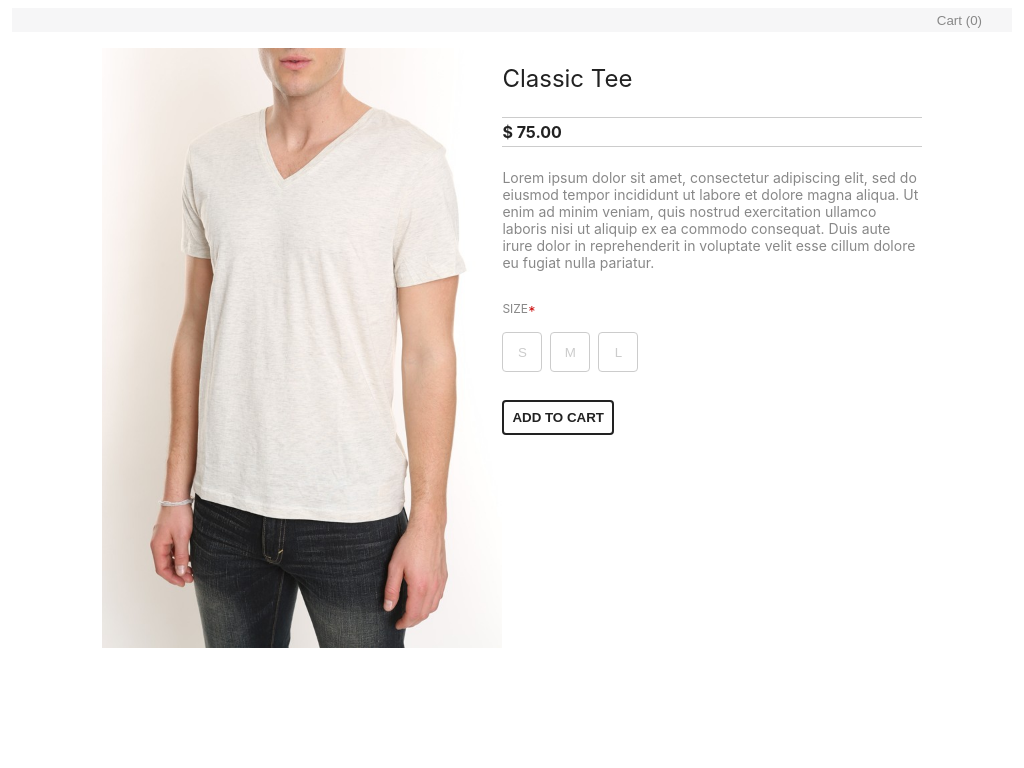
Test: Main page E2E tests › Must render product with sizes
This screenshot has width=1024, height=768.
Expected: the element with test id "header" is shown, [12, 8, 1012, 32]
Expected: the element with test id "cart-menu" is shown, [931, 12, 988, 29]
Click the button "S": (522, 352) [502, 332, 542, 372]
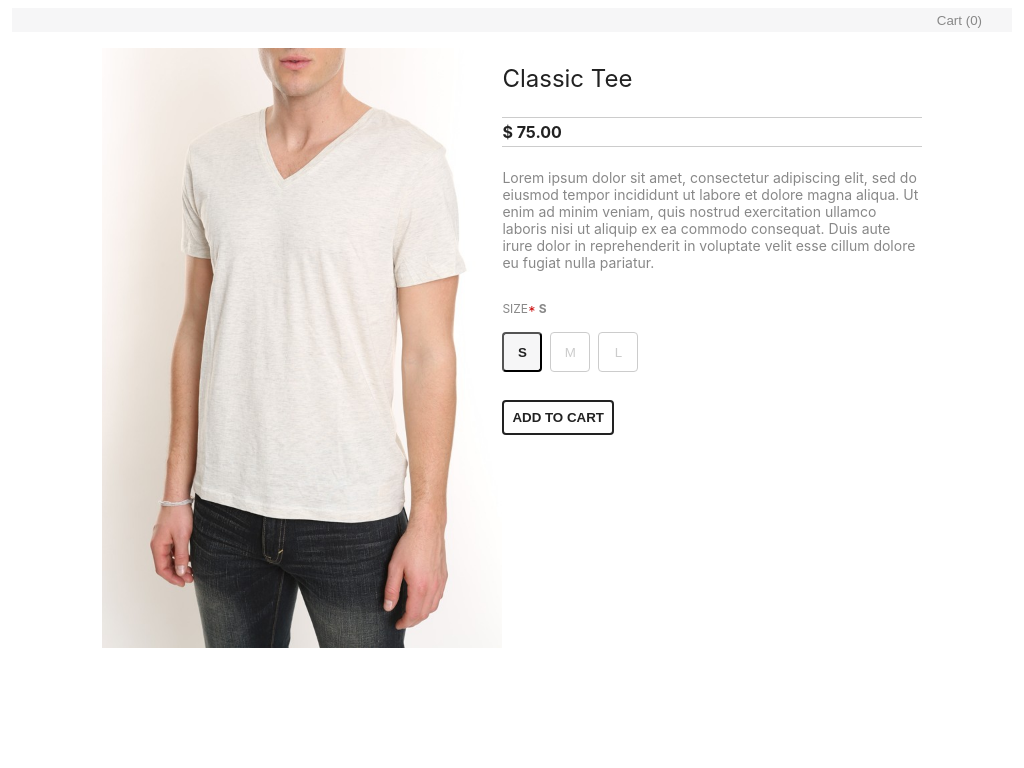
Expected: the element with test id "size-product" reads "Size* S", [502, 301, 546, 316]
